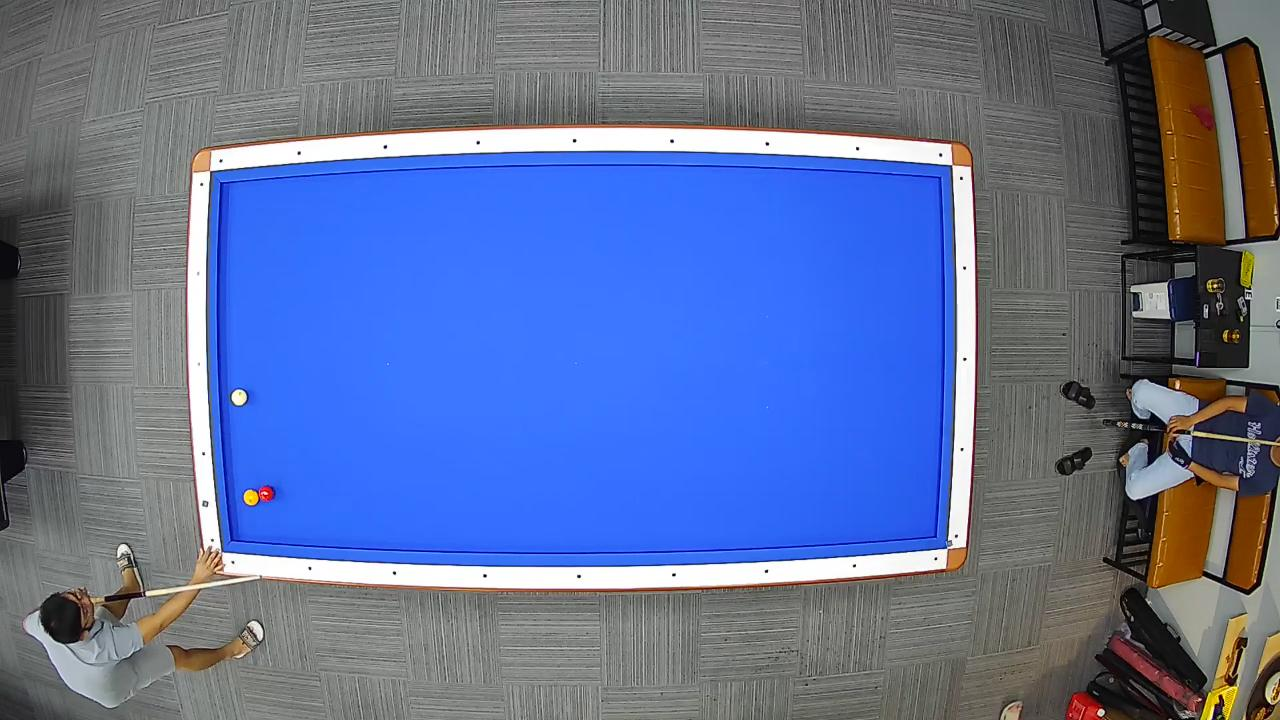Red: (258, 485, 275, 503)
White: (230, 388, 248, 408)
Yellow: (242, 488, 260, 507)
